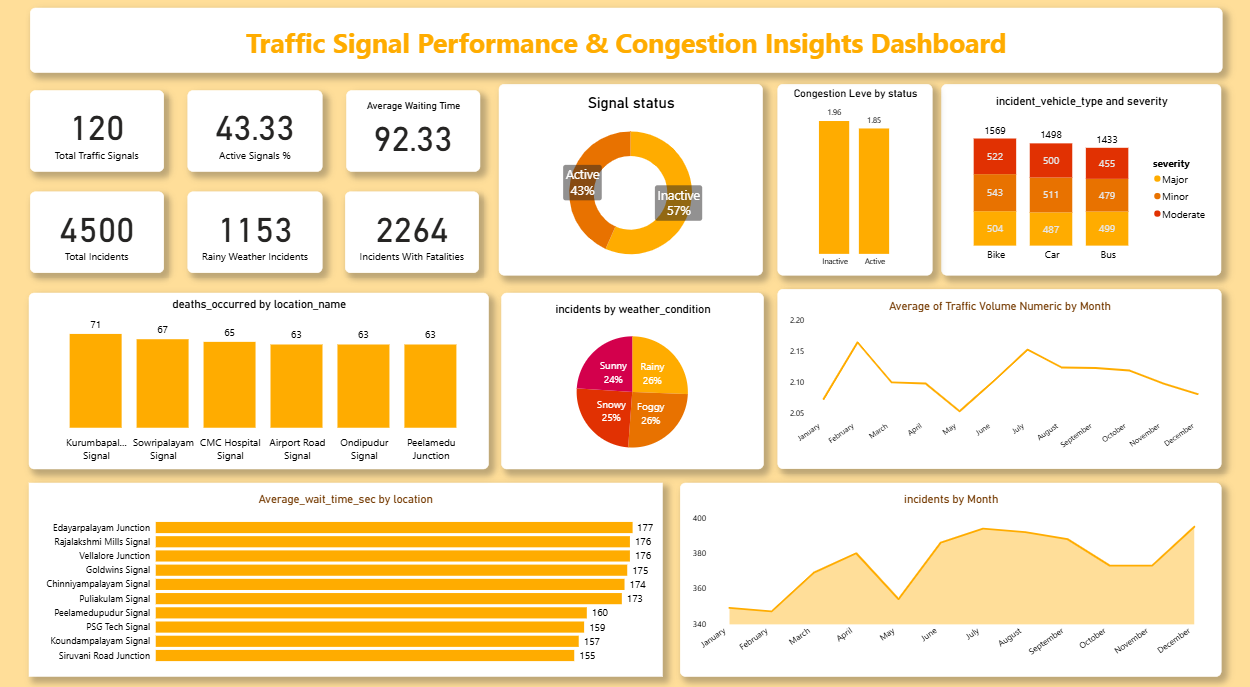

The dashboard page shown, as its layout file describes it:
{"tool":"powerbi","page":{"name":"Page 1","canvas":[2000,1100],"ordinal":0},"visuals":[{"type":"lineChart","fields":{"Category":["Table2.date_time.Variation.Date Hierarchy.Year","Table2.date_time.Variation.Date Hierarchy.Quarter","Table2.date_time.Variation.Date Hierarchy.Month"],"Y":["Avg(Table2.Traffic Volume Numeric)"]},"box":[1244,464,710,288],"z":0},{"type":"pieChart","title":"incidents by weather_condition","fields":{"Category":["Table5.weather_condition"],"Y":["CountNonNull(Table5.incident_id)"]},"box":[802,470,420,282],"z":1000},{"type":"donutChart","title":"Signal status","fields":{"Category":["Table3.status"],"Y":["CountNonNull(Table3.location_id)"]},"box":[798,136,422,306],"z":2000},{"type":"card","title":"Average Waiting Time ","fields":{"Values":["Table1.Avg Wait Time"]},"box":[554,146,214,130],"z":3000},{"type":"columnChart","title":"incident_vehicle_type and severity","fields":{"Category":["Table5.incident_vehicle_type"],"Y":["CountNonNull(Table5.incident_id)"],"Series":["Table5.severity"]},"box":[1506,136,448,306],"z":4000},{"type":"areaChart","title":"incidents by Month","fields":{"Category":["Table5.date_time.Variation.Date Hierarchy.Year","Table5.date_time.Variation.Date Hierarchy.Quarter","Table5.date_time.Variation.Date Hierarchy.Month","Table5.date_time.Variation.Date Hierarchy.Day"],"Y":["CountNonNull(Table5.incident_id)"]},"box":[1088,774,866,310],"z":5000},{"type":"barChart","title":"Average_wait_time_sec by location","fields":{"Category":["Table1.location_name"],"Y":["Avg(Table3.average_wait_time_sec)"]},"box":[46,774,1014,310],"z":6000},{"type":"card","fields":{"Values":["Table1.Rainy Weather Incidents"]},"box":[300,308,216,130],"z":7000},{"type":"card","fields":{"Values":["Table3.Total Traffic Signals"]},"box":[48,146,214,130],"z":8000},{"type":"card","fields":{"Values":["Table5.Incidents With Fatalities"]},"box":[552,308,214,130],"z":9000},{"type":"card","fields":{"Values":["Table3.Active Signals %"]},"box":[300,146,216,130],"z":10000},{"type":"card","fields":{"Values":["Table1.Total Incidents"]},"box":[48,308,214,130],"z":11000},{"type":"columnChart","title":"deaths_occurred by location_name","fields":{"Category":["Table1.location_name"],"Y":["Sum(Table5.deaths_occurred)"]},"box":[46,470,736,282],"z":12000},{"type":"clusteredColumnChart","title":"Congestion Leve by status","fields":{"Category":["Table3.status"],"Y":["Avg(Table3.Congestion Numeric)"]},"box":[1244,136,248,306],"z":13000},{"type":"textbox","box":[48,14,1908,104],"z":14000}]}

Visuals, with their boxes in screenshot pixels (x1, y1, x2, y2), scaled from the page's 2000x1100 canvas onto the 1250x687 screenshot:
lineChart - Table2.date_time.Variation.Date Hierarchy.Year x Table2.date_time.Variation.Date Hierarchy.Quarter: crop(778, 290, 1221, 470)
"incidents by weather_condition" pieChart: crop(501, 294, 764, 470)
"Signal status" donutChart: crop(499, 85, 762, 276)
"Average Waiting Time " card: crop(346, 91, 480, 172)
"incident_vehicle_type and severity" columnChart: crop(941, 85, 1221, 276)
"incidents by Month" areaChart: crop(680, 483, 1221, 677)
"Average_wait_time_sec by location" barChart: crop(29, 483, 662, 677)
card - Table1.Rainy Weather Incidents: crop(188, 192, 322, 274)
card - Table3.Total Traffic Signals: crop(30, 91, 164, 172)
card - Table5.Incidents With Fatalities: crop(345, 192, 479, 274)
card - Table3.Active Signals %: crop(188, 91, 322, 172)
card - Table1.Total Incidents: crop(30, 192, 164, 274)
"deaths_occurred by location_name" columnChart: crop(29, 294, 489, 470)
"Congestion Leve by status" clusteredColumnChart: crop(778, 85, 932, 276)
textbox: crop(30, 9, 1222, 74)
